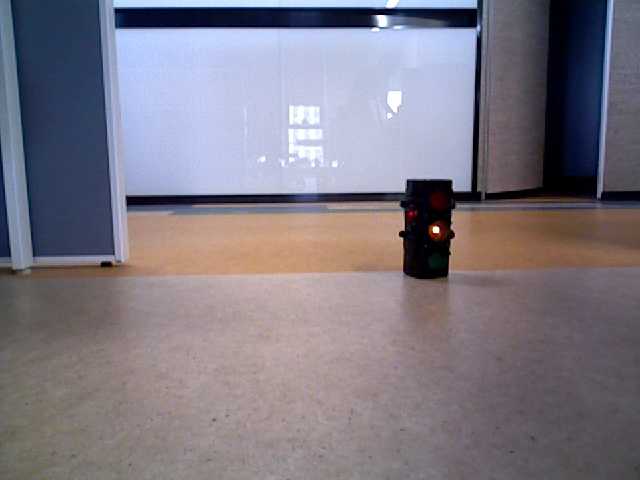yellow: (405, 181, 445, 277)
